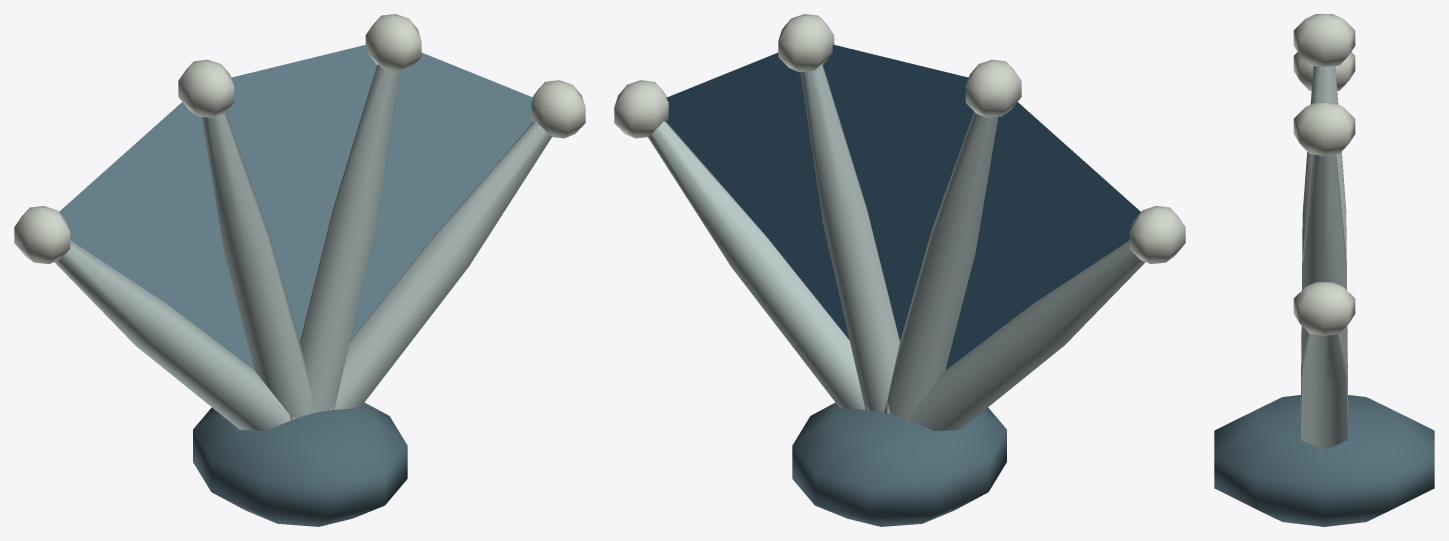
The model's file is screen.glb.
The picture shows the model from 3 angles, left to right: view 1: azimuth 30°, elevation 25°; view 2: azimuth 150°, elevation 25°; view 3: azimuth 270°, elevation 25°; orthographic projection. The views are drawn at different scales.
Parts seen in each view (by area): view 1: screen; view 2: screen; view 3: screen.
Part boxes in pixels (left/top/right/bottom): screen: left=14, top=14, right=585, bottom=526; screen: left=614, top=14, right=1185, bottom=526; screen: left=1214, top=14, right=1434, bottom=526.
Bounding box in the file's own units: 0.7179 × 0.572 × 0.2533.
